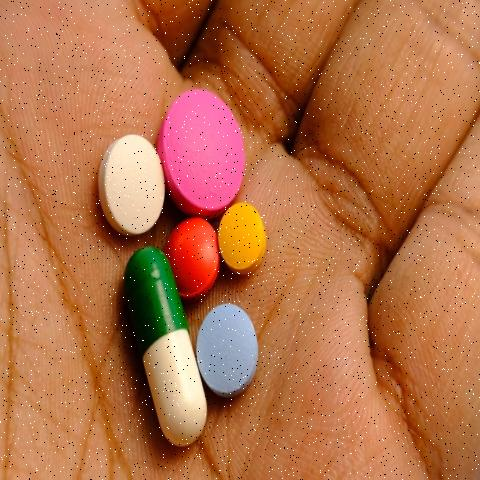hands: (86, 107, 169, 244)
